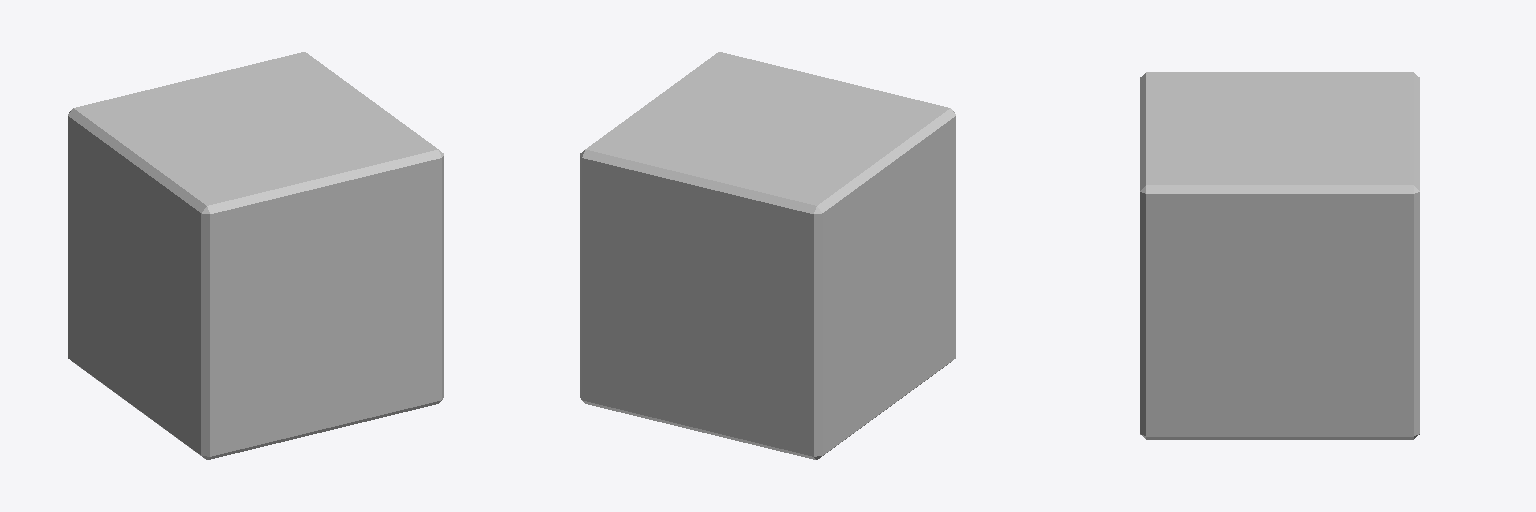
Rendered from rubiks_cube.obj.
The picture shows the model from 3 angles: view 1: azimuth 30°, elevation 25°; view 2: azimuth 150°, elevation 25°; view 3: azimuth 270°, elevation 25°; orthographic projection.
Parts seen in each view (by area): view 1: Cube_Cube.001; view 2: Cube_Cube.001; view 3: Cube_Cube.001.
Part boxes in pixels (left/top/right/bottom): Cube_Cube.001: left=68, top=52, right=443, bottom=459; Cube_Cube.001: left=580, top=52, right=955, bottom=459; Cube_Cube.001: left=1140, top=72, right=1419, bottom=439.
Size of the model in its own units: 4 by 4 by 4.